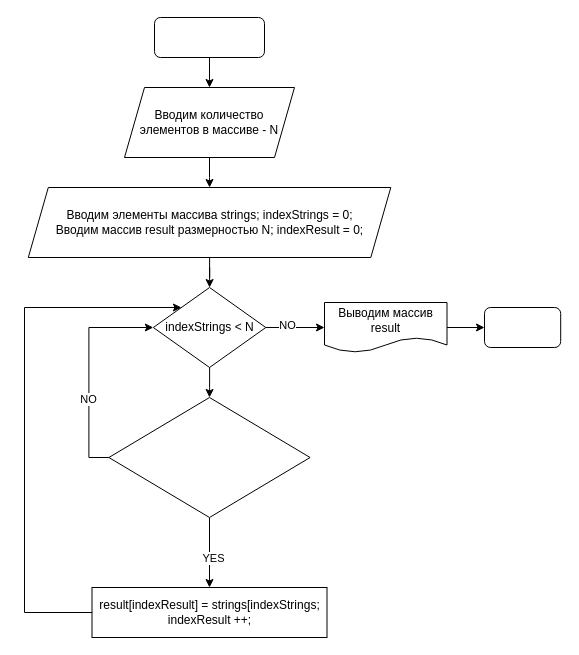
Some shapes in this 579 by 655 pixel diagram are drawn without their labels. Each missing label, with the centre of its shape:
strings[indexStrings].Length <= 3: the point at 209,457
Конец: the point at 522,327
Старт: the point at 209,37
